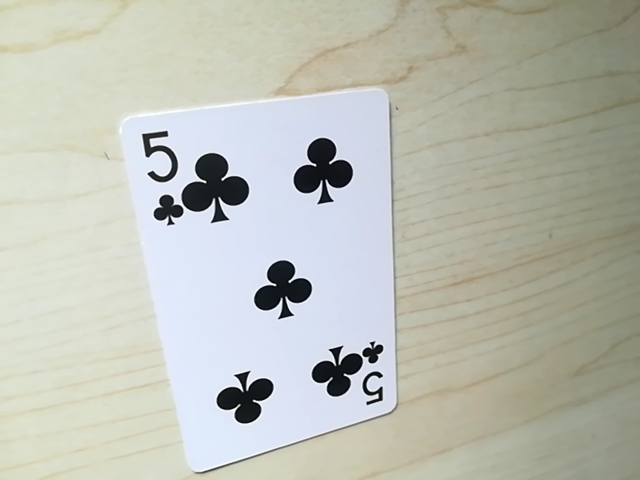mh 5: (134, 121, 190, 231), (358, 350, 390, 412)
